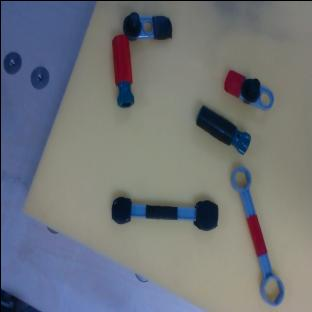part_1_bad: (122, 9, 172, 41)
part_1_good: (219, 68, 278, 112)
part_2_bad: (191, 104, 254, 155)
part_2_good: (110, 34, 134, 108)
part_3_bad: (110, 196, 218, 231)
part_3_good: (224, 164, 288, 308)
